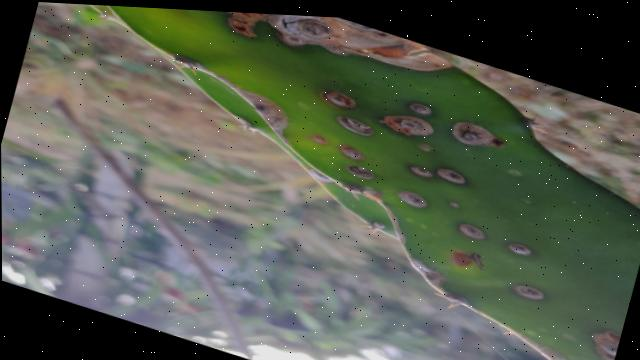stemcanker: (448, 118, 506, 152), (377, 113, 437, 140), (446, 245, 488, 274), (333, 113, 376, 139), (506, 280, 550, 305), (454, 220, 491, 246), (433, 164, 470, 188), (322, 88, 359, 111), (333, 141, 368, 164), (397, 188, 430, 212), (503, 241, 534, 259)
